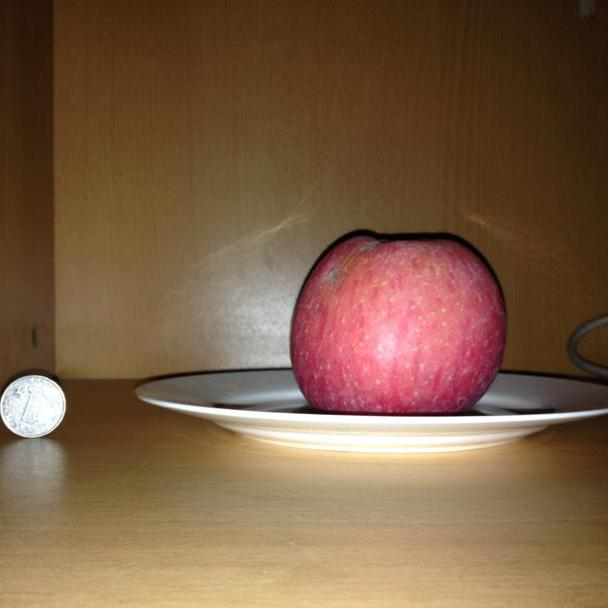apple: (289, 233, 509, 414)
